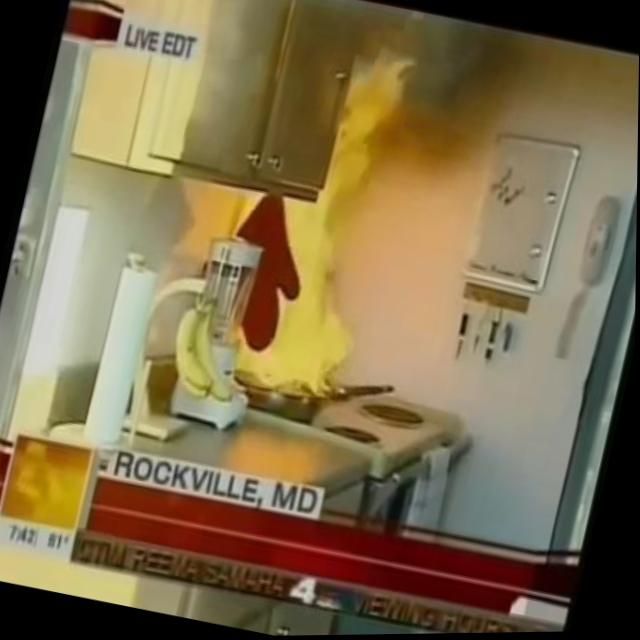fire: (202, 26, 424, 410)
